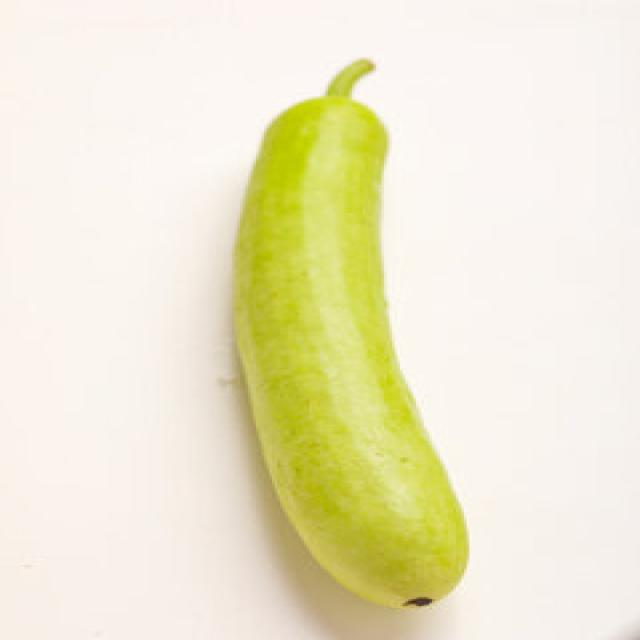Bottle Gourd: (230, 57, 470, 610)
